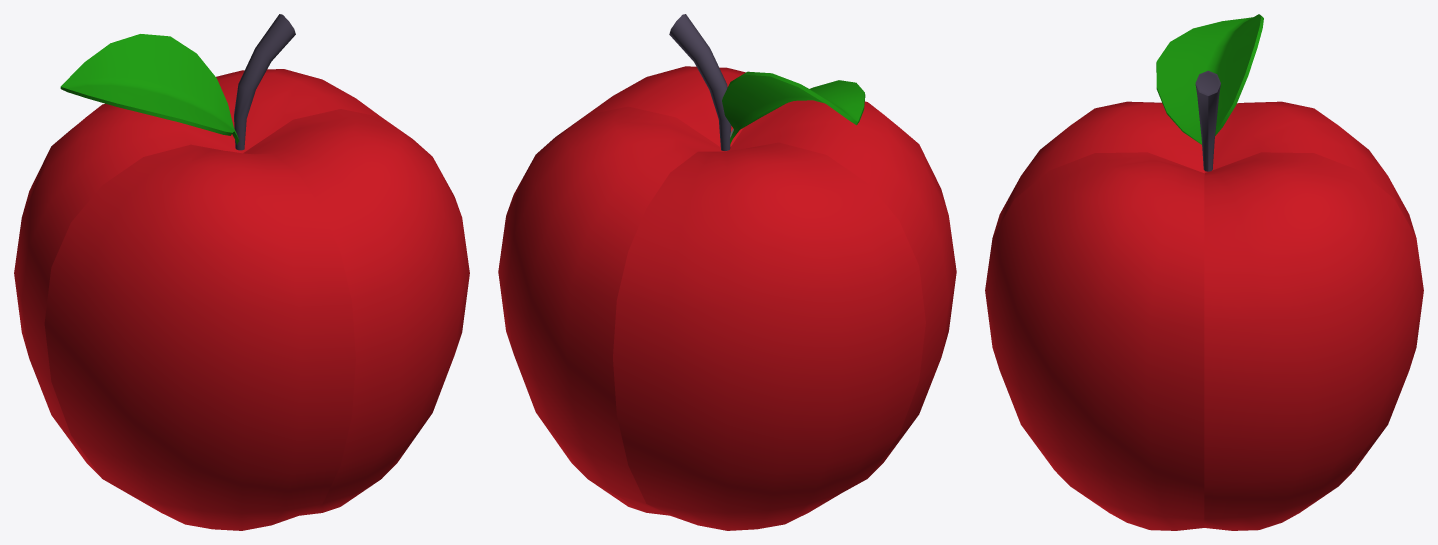
The model's file is Apple.fbx.
3 views of the same model, side by side, from view 1: azimuth 30°, elevation 25°; view 2: azimuth 150°, elevation 25°; view 3: azimuth 270°, elevation 25° (orthographic). The views are drawn at different scales.
Visible parts, largest first — view 1: Apple:Apple_0; view 2: Apple:Apple_0; view 3: Apple:Apple_0.
Part boxes in pixels (x1,y1,x2,y2): Apple:Apple_0: (14,14,469,530); Apple:Apple_0: (498,14,956,530); Apple:Apple_0: (985,14,1423,530).
Size of the model in its own units: 0.7613 by 0.8683 by 0.7613.
